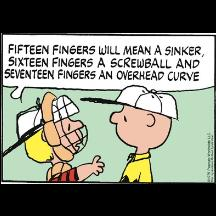charlie: (109, 84, 178, 184)
